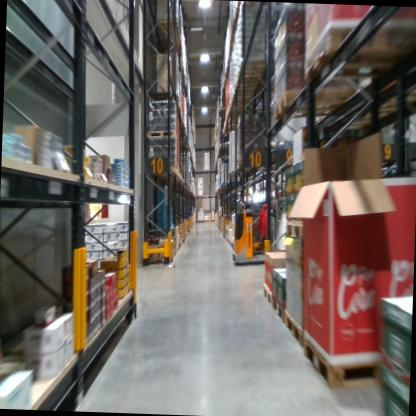pallet: (301, 16, 416, 88), (299, 327, 388, 394), (273, 86, 359, 125), (281, 303, 305, 349), (236, 61, 271, 80), (269, 295, 287, 328), (147, 128, 177, 144), (260, 279, 275, 309), (156, 15, 179, 34)
pallet_truck: (224, 177, 292, 275)
